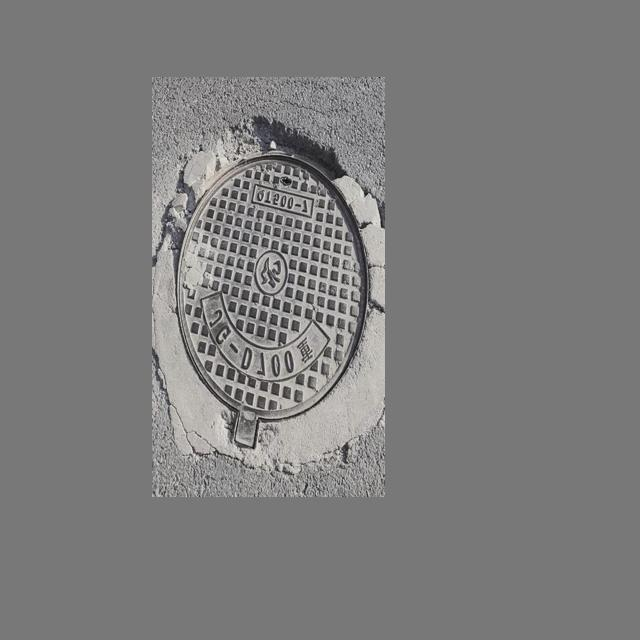circle: (160, 126, 379, 464)
